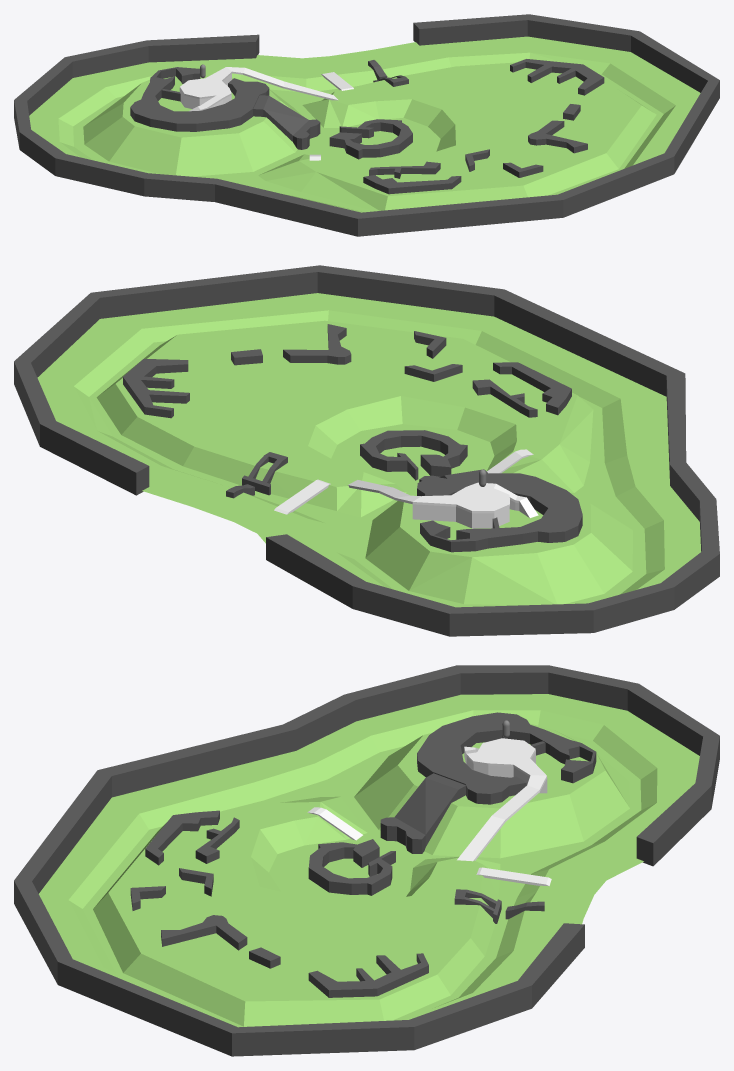
File: sand cas test condense.fbx
3 renders of one model, top to bottom at view 1: azimuth 30°, elevation 25°; view 2: azimuth 150°, elevation 25°; view 3: azimuth 270°, elevation 25°, orthographic. The views are drawn at different scales.
Visible parts, largest first — view 1: Plane.003, Plane.018, Plane.002, Circle, Plane.004, Plane.005, Plane.014, Plane.007, Plane.012, Plane.009, Plane.011; view 2: Plane.003, Plane.018, Plane.002, Circle, Plane.004, Plane.014, Plane.007, Plane.012, Plane.009, Plane.015, Plane.006, Plane.010; view 3: Plane.003, Plane.018, Plane.002, Circle, Plane.005, Plane.004, Plane.014, Plane.007, Plane.012, Plane.009, Plane.006, Plane.015.
Boxes of the visible parts, box(x1,y1,x2,y2) form: Plane.003: box(29, 36, 700, 212); Plane.018: box(14, 14, 719, 236); Plane.002: box(130, 67, 269, 131); Circle: box(179, 67, 338, 111); Plane.004: box(329, 119, 412, 159); Plane.005: box(253, 95, 320, 149); Plane.014: box(510, 59, 604, 95); Plane.007: box(363, 175, 461, 194); Plane.012: box(528, 120, 587, 153); Plane.009: box(369, 161, 440, 178); Plane.011: box(503, 162, 543, 177); Plane.003: box(37, 293, 701, 607); Plane.018: box(14, 265, 719, 636); Plane.002: box(417, 473, 582, 552); Circle: box(348, 480, 538, 528); Plane.004: box(360, 430, 467, 480); Plane.014: box(123, 358, 189, 418); Plane.007: box(493, 362, 571, 415); Plane.012: box(283, 324, 351, 364); Plane.009: box(472, 379, 537, 417); Plane.015: box(242, 452, 287, 495); Plane.006: box(274, 479, 330, 514); Plane.010: box(404, 364, 462, 381); Plane.003: box(39, 694, 699, 1027); Plane.018: box(14, 665, 719, 1056); Plane.002: box(417, 712, 596, 804); Circle: box(457, 738, 547, 861); Plane.005: box(380, 773, 465, 853); Plane.004: box(308, 839, 395, 895); Plane.014: box(308, 953, 428, 997); Plane.007: box(145, 810, 219, 865); Plane.012: box(161, 915, 247, 950); Plane.009: box(195, 817, 239, 863); Plane.006: box(476, 867, 551, 886); Plane.015: box(454, 889, 501, 923).
Size of the model in its own units: 58.35 by 6.74 by 47.32.
